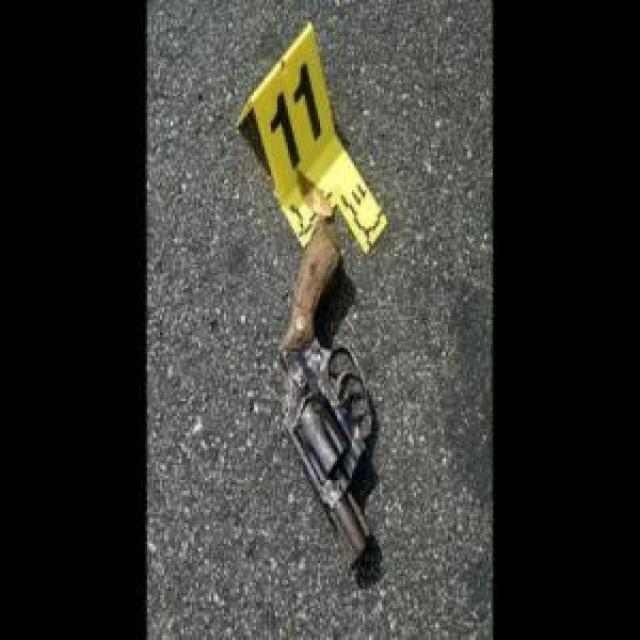pistol: (260, 216, 392, 578)
